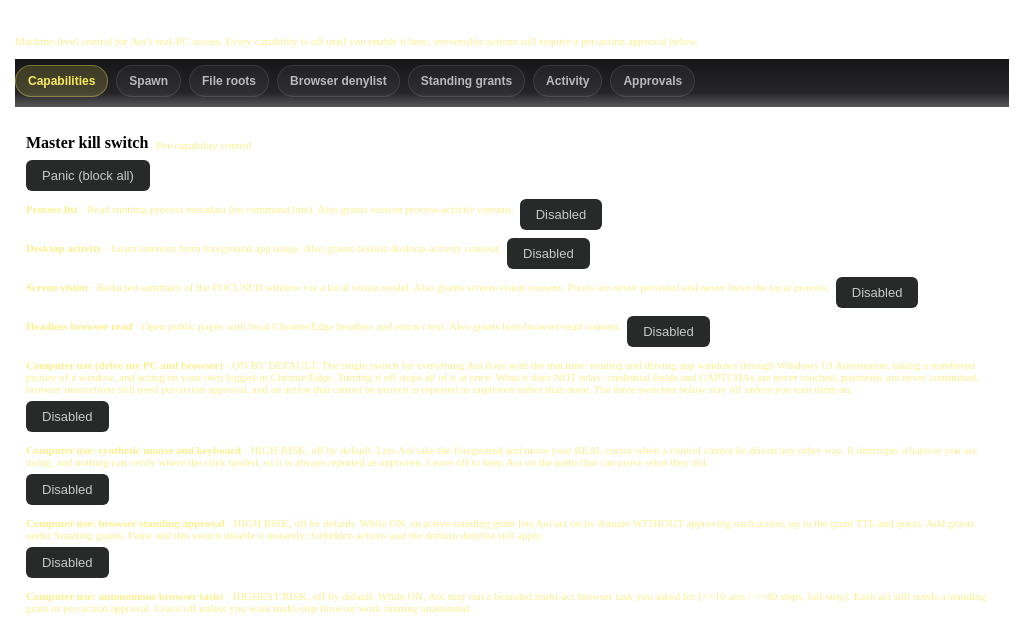
Test: AoiHostBridgeSettingsPanel › syncs process-activity session consent when Process list is enabled
Click the button with test id "aoi-host-cap-process_activity". click: (561, 214)
box: top-left (520, 199), bottom-right (602, 230)
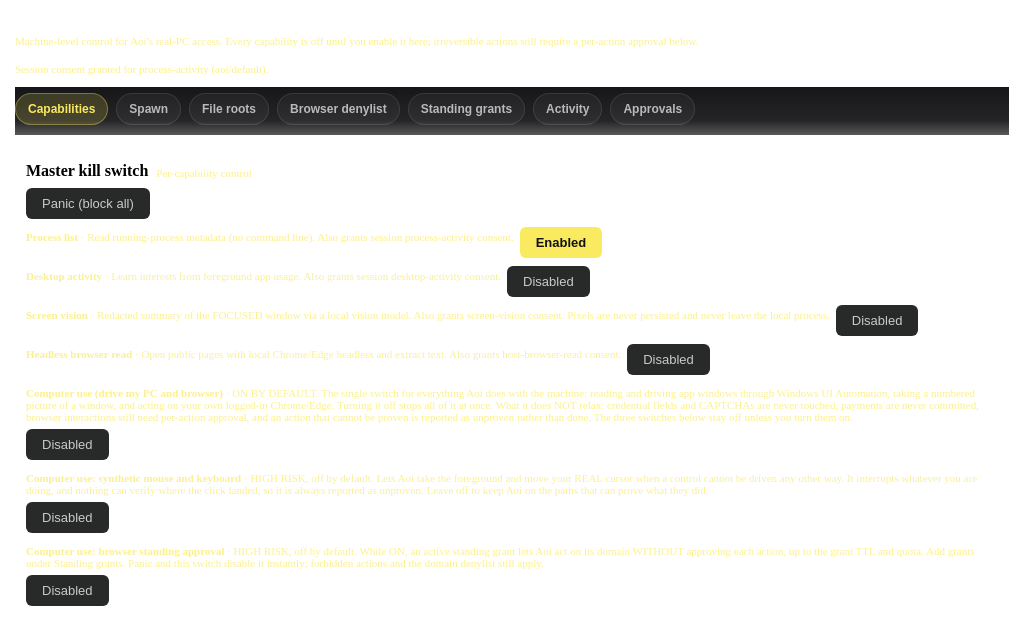
Expected: the button with test id "aoi-host-cap-process_activity" reads "Enabled", top-left (520, 227), bottom-right (602, 258)
